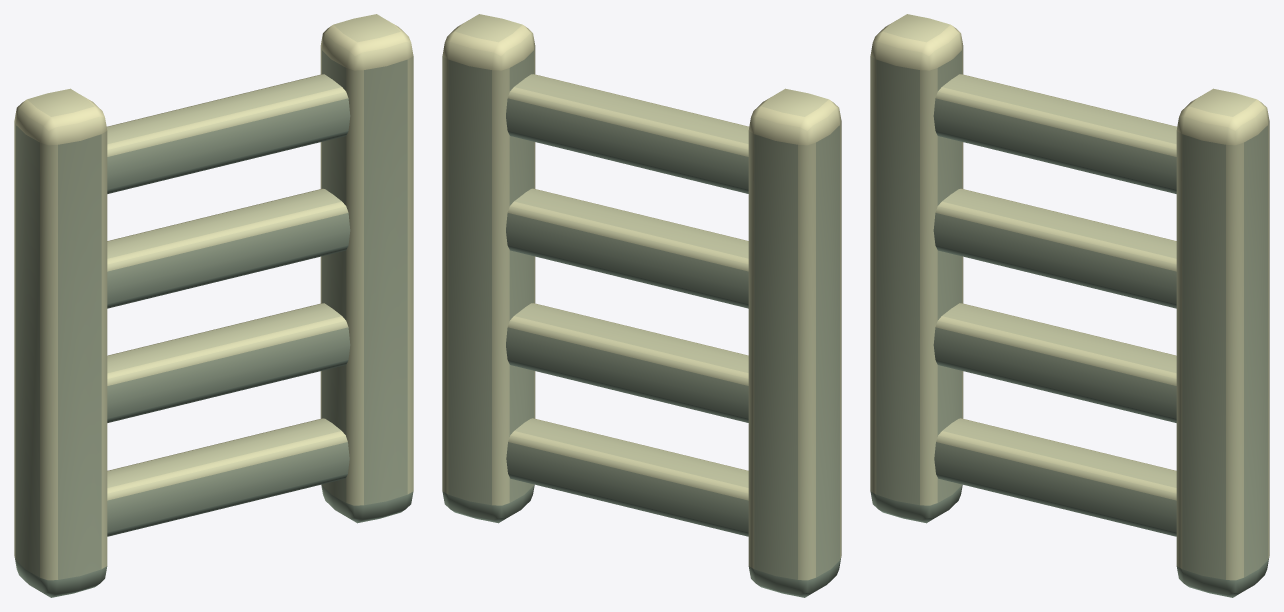
File: Stone_Ladder_Light.fbx
The picture shows the model from 3 angles, left to right: view 1: azimuth 30°, elevation 25°; view 2: azimuth 150°, elevation 25°; view 3: azimuth 330°, elevation 25°; orthographic projection.
Parts seen in each view (by area): view 1: Stone_Ladder_Light_LOD0; view 2: Stone_Ladder_Light_LOD0; view 3: Stone_Ladder_Light_LOD0.
Part boxes in pixels (<box>): Stone_Ladder_Light_LOD0: <box>14,14,413,597</box>; Stone_Ladder_Light_LOD0: <box>442,14,841,597</box>; Stone_Ladder_Light_LOD0: <box>870,14,1269,597</box>.
Size of what is drawn, in the model's own units: 0.8613 by 1.05 by 0.1617.
